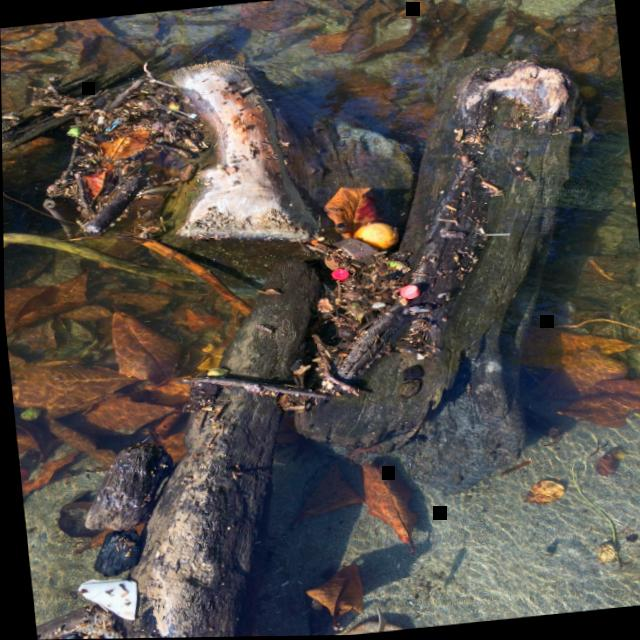Other plastic bottle: (75, 578, 134, 619), (104, 118, 121, 131)
Plastic bottle cap: (398, 285, 417, 299), (329, 269, 346, 282)
